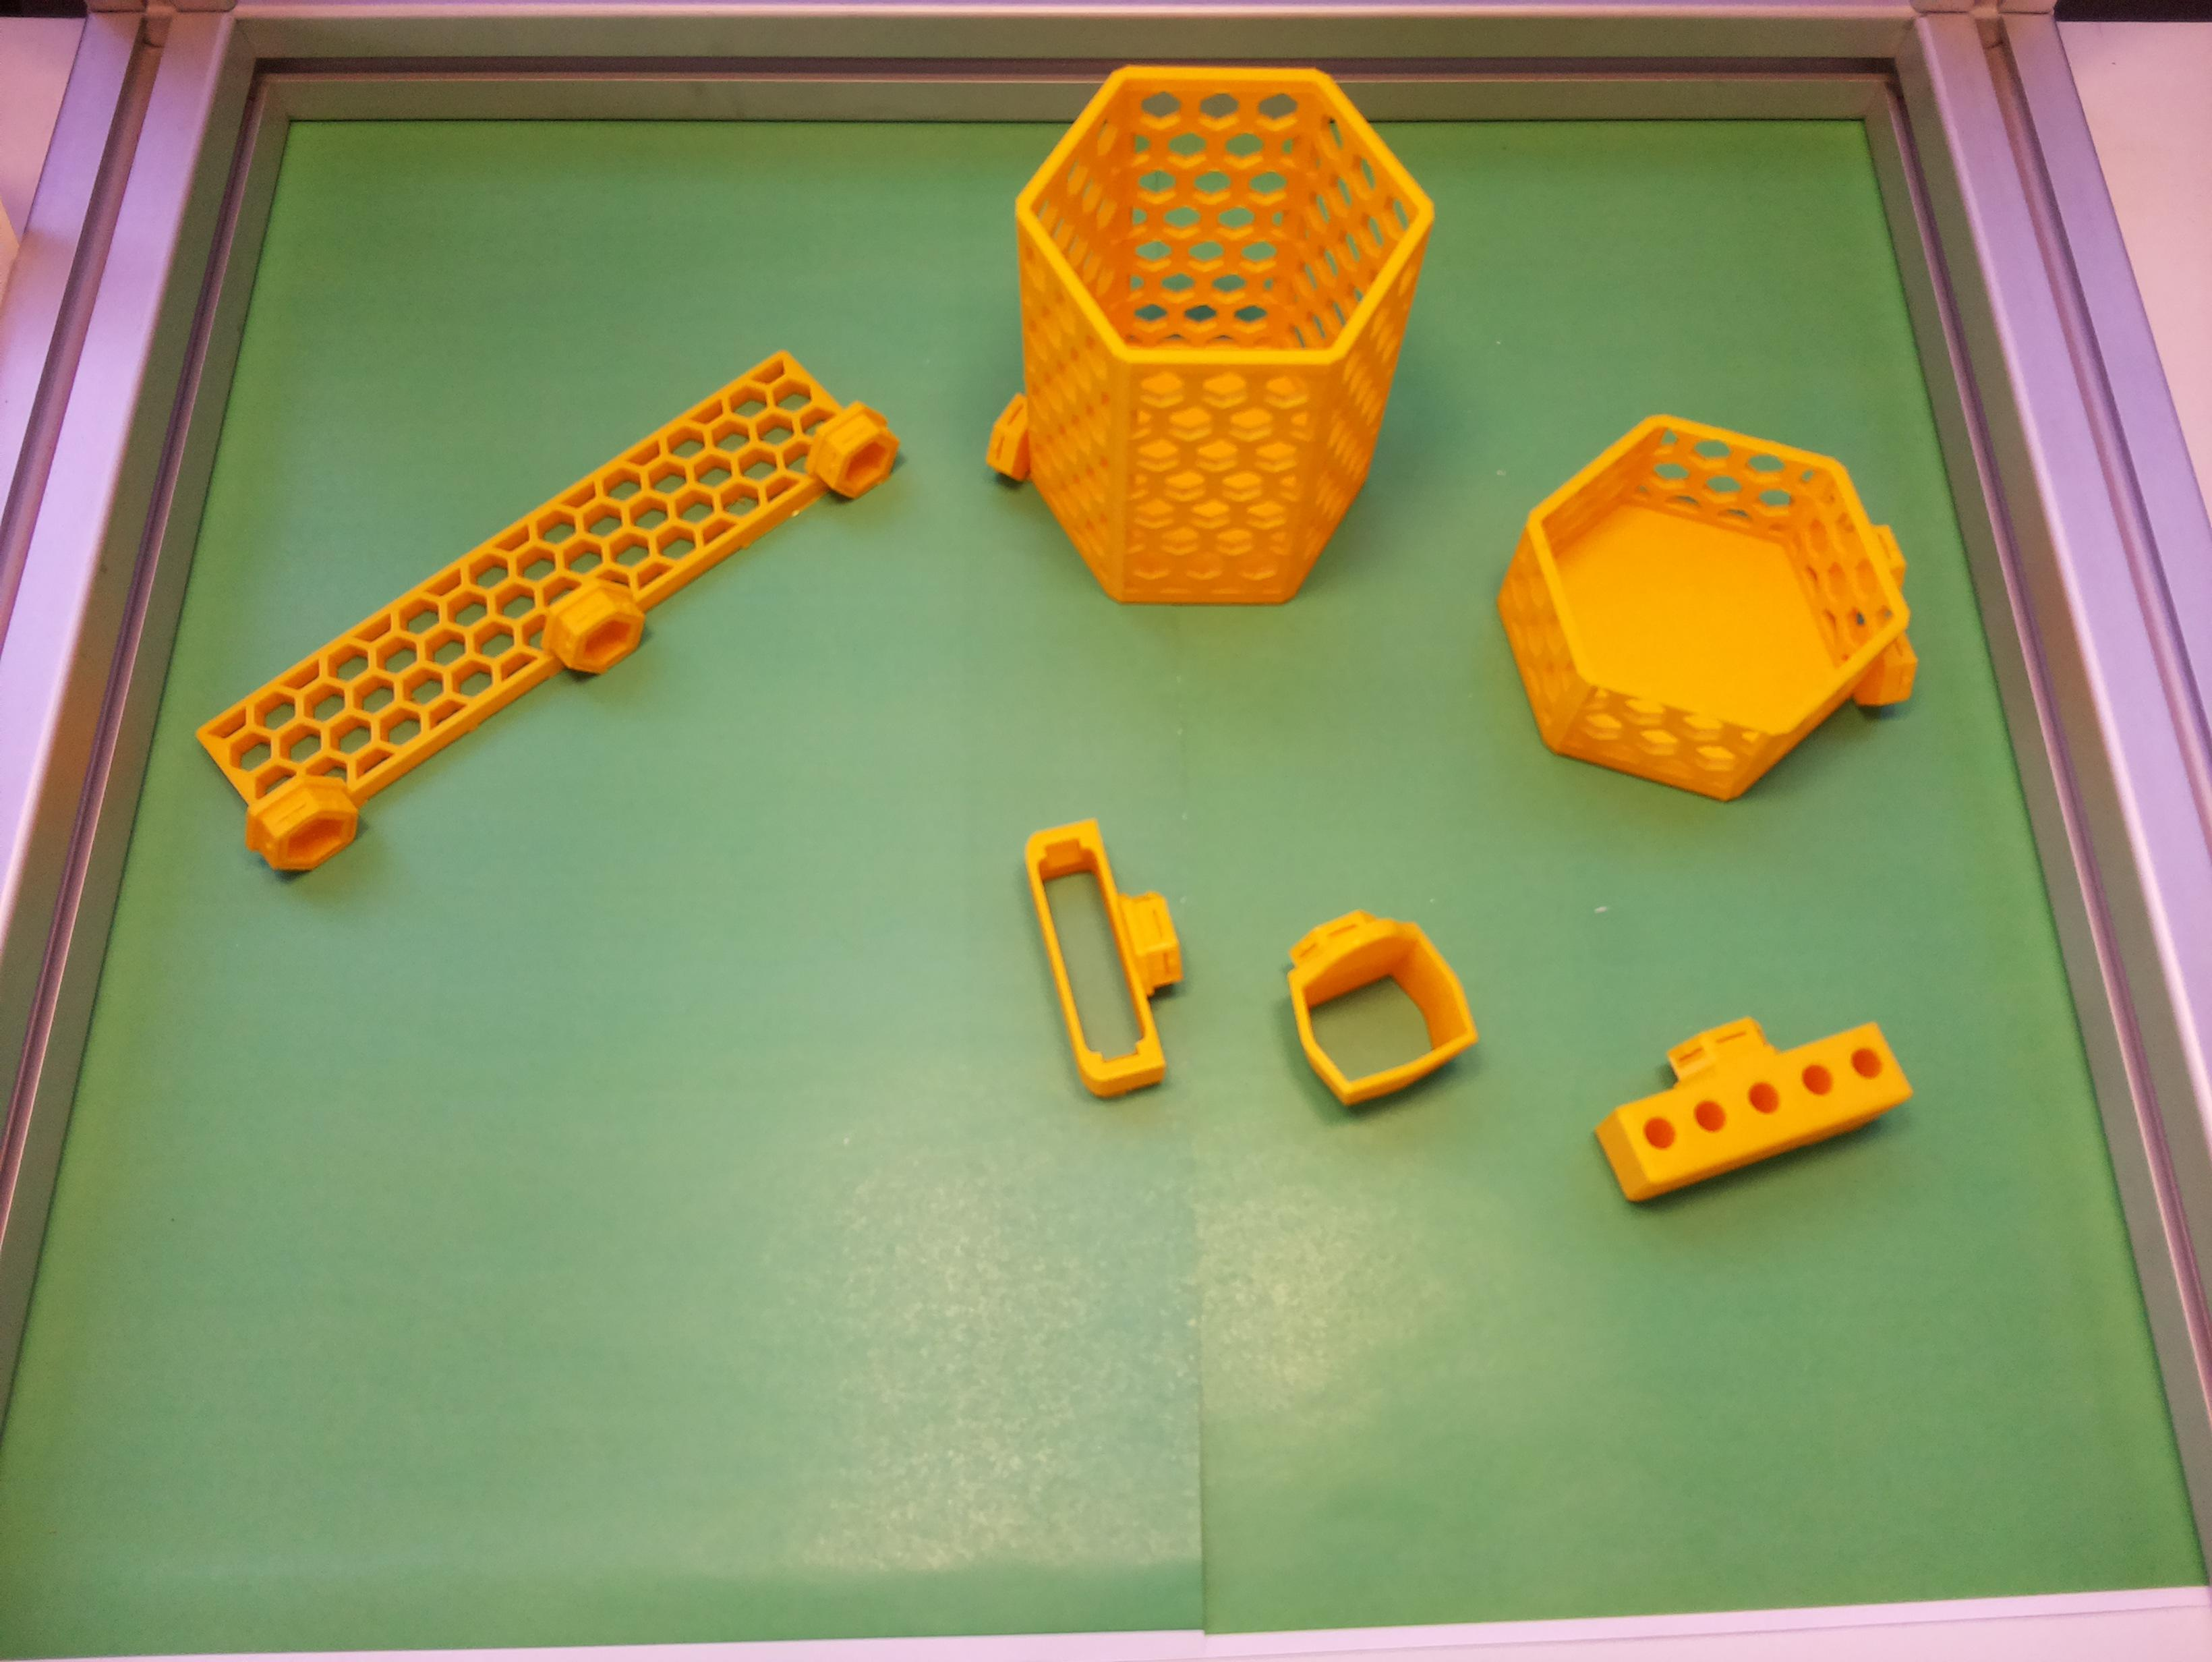bit_holder: (1577, 974, 1917, 1208)
bottle_holder: (1430, 340, 1968, 866)
cup_holder: (925, 5, 1461, 653)
cutter_holder: (1018, 808, 1208, 1105)
scissor_holder: (1264, 885, 1487, 1117)
tool_holder: (178, 311, 913, 892)
